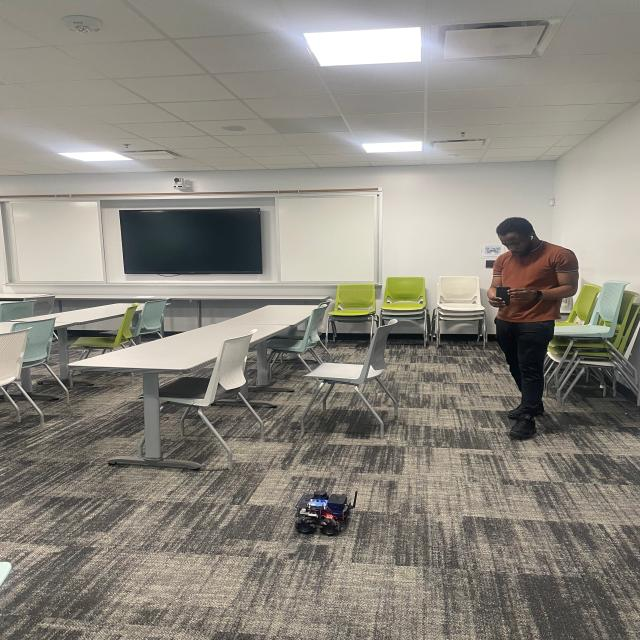ArduinoCar: (293, 486, 359, 536)
